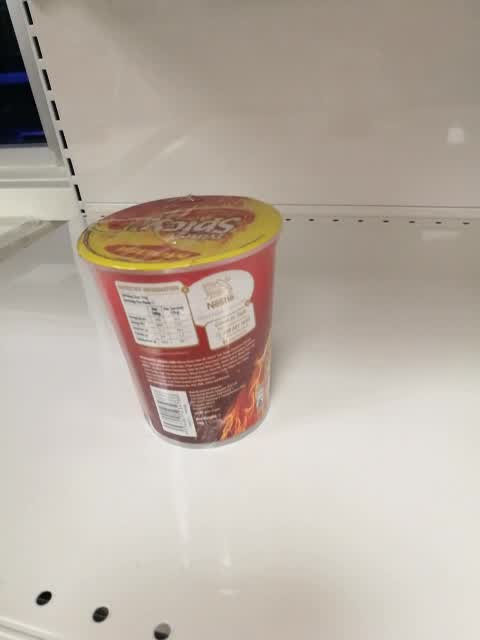maggi: (73, 192, 283, 449)
